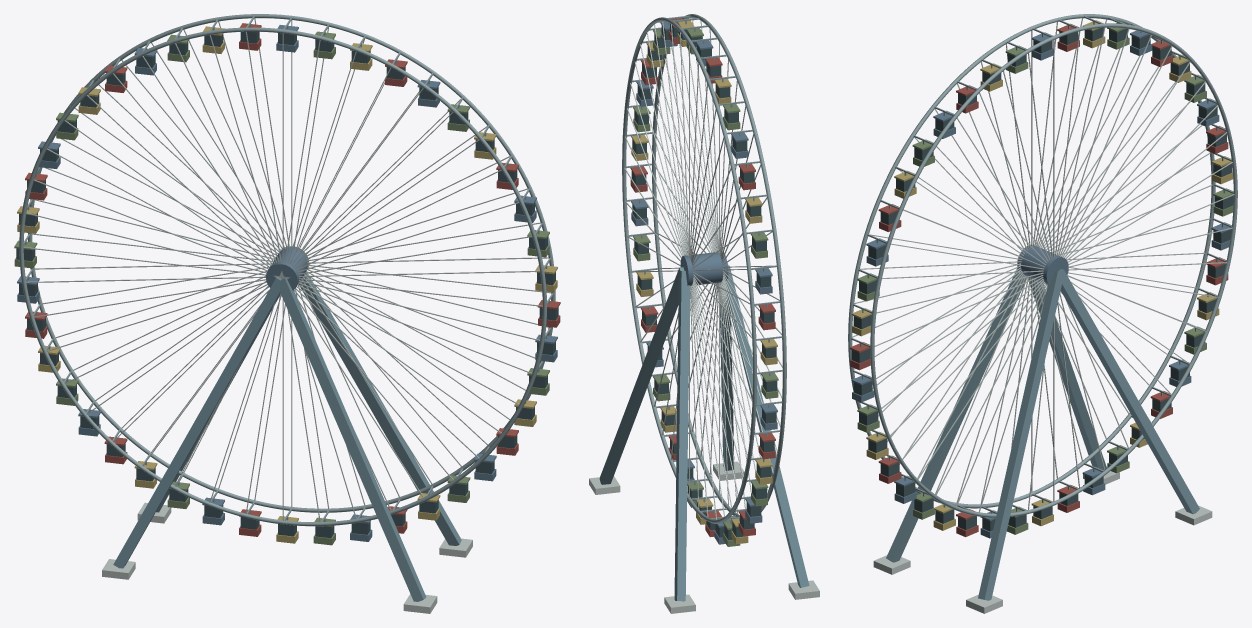
The model's file is texas-star-ferris-wheel-near.glb.
3 renders of one model, left to right at view 1: azimuth 30°, elevation 25°; view 2: azimuth 150°, elevation 25°; view 3: azimuth 270°, elevation 25°, orthographic. The views are drawn at different scales.
Parts seen in each view (by area): view 1: texas-star-ferris-wheel-0-spokes, texas-star-ferris-wheel-0-steel, texas-star-ferris-wheel-0-support, texas-star-ferris-wheel-0-glass, texas-star-ferris-wheel-0-blue, texas-star-ferris-wheel-0-green, texas-star-ferris-wheel-0-gold, texas-star-ferris-wheel-0-red; view 2: texas-star-ferris-wheel-0-spokes, texas-star-ferris-wheel-0-steel, texas-star-ferris-wheel-0-support, texas-star-ferris-wheel-0-glass, texas-star-ferris-wheel-0-blue, texas-star-ferris-wheel-0-gold, texas-star-ferris-wheel-0-green, texas-star-ferris-wheel-0-red; view 3: texas-star-ferris-wheel-0-spokes, texas-star-ferris-wheel-0-support, texas-star-ferris-wheel-0-steel, texas-star-ferris-wheel-0-glass, texas-star-ferris-wheel-0-blue, texas-star-ferris-wheel-0-red, texas-star-ferris-wheel-0-green, texas-star-ferris-wheel-0-gold.
Boxes of the visible parts, <box> form: texas-star-ferris-wheel-0-spokes: <box>23,18,551,613</box>; texas-star-ferris-wheel-0-steel: <box>19,14,555,526</box>; texas-star-ferris-wheel-0-support: <box>113,272,461,601</box>; texas-star-ferris-wheel-0-glass: <box>16,31,558,538</box>; texas-star-ferris-wheel-0-blue: <box>17,25,557,541</box>; texas-star-ferris-wheel-0-green: <box>14,31,549,545</box>; texas-star-ferris-wheel-0-gold: <box>17,26,557,543</box>; texas-star-ferris-wheel-0-red: <box>25,23,560,536</box>; texas-star-ferris-wheel-0-spokes: <box>589,18,819,613</box>; texas-star-ferris-wheel-0-steel: <box>622,14,786,524</box>; texas-star-ferris-wheel-0-support: <box>599,263,809,601</box>; texas-star-ferris-wheel-0-glass: <box>631,23,777,540</box>; texas-star-ferris-wheel-0-blue: <box>631,22,777,544</box>; texas-star-ferris-wheel-0-gold: <box>631,20,777,544</box>; texas-star-ferris-wheel-0-green: <box>633,28,778,546</box>; texas-star-ferris-wheel-0-red: <box>630,18,775,537</box>; texas-star-ferris-wheel-0-spokes: <box>852,18,1234,613</box>; texas-star-ferris-wheel-0-support: <box>886,268,1199,600</box>; texas-star-ferris-wheel-0-steel: <box>848,14,1237,517</box>; texas-star-ferris-wheel-0-glass: <box>851,27,1233,531</box>; texas-star-ferris-wheel-0-blue: <box>851,30,1231,538</box>; texas-star-ferris-wheel-0-red: <box>850,23,1228,537</box>; texas-star-ferris-wheel-0-green: <box>857,21,1233,534</box>; texas-star-ferris-wheel-0-gold: <box>851,20,1233,530</box>.
Size of the model in its own units: 44.75 by 64.77 by 44.75.
